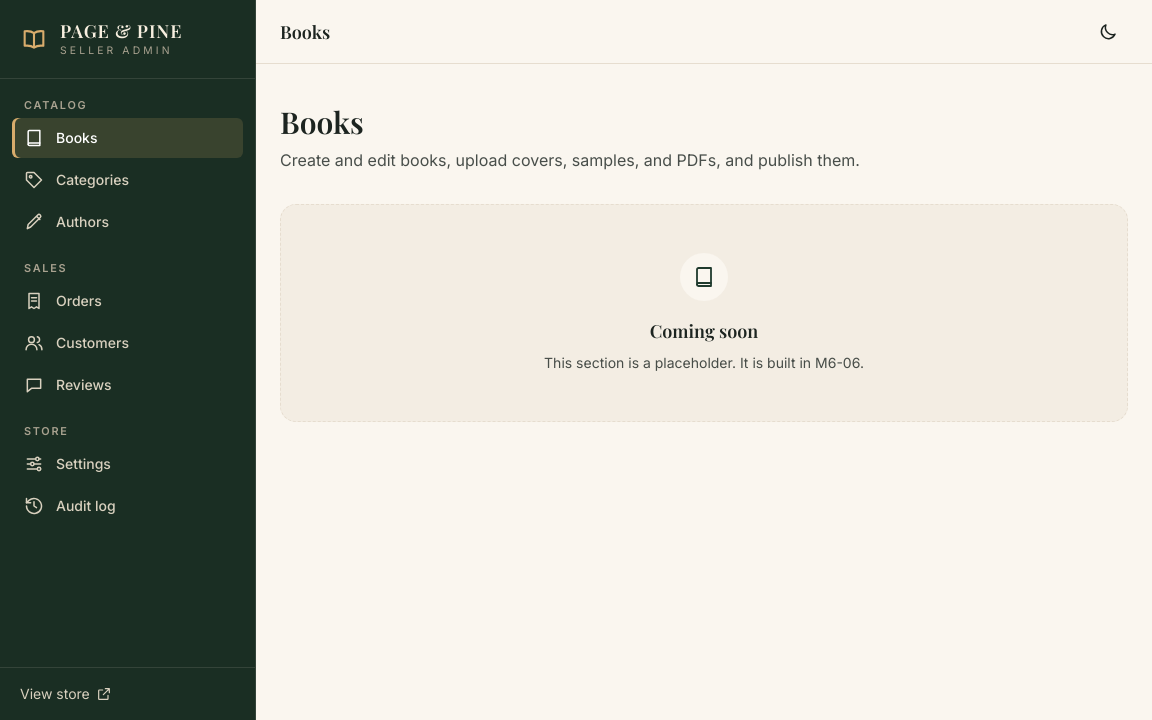
Test case: admin sidebar › clicking "Categories" shows the matching page
This screenshot has width=1152, height=720.
Click the link "Categories" at (76, 180), box [24,170,129,190]
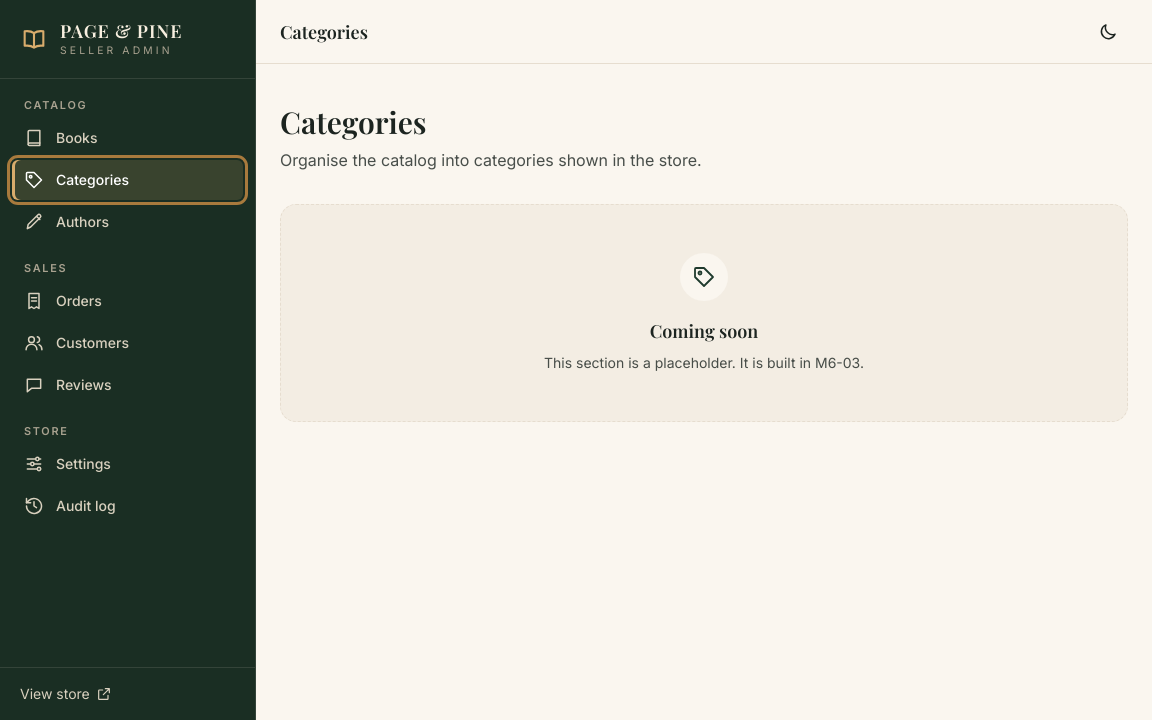
Expected: the heading "Categories" is shown, [280,102,426,142]
Expected: the text "Categories" is shown, [280,20,368,44]
Expected: the text "Organise the catalog into categories shown in the store." is shown, [280,150,702,170]
